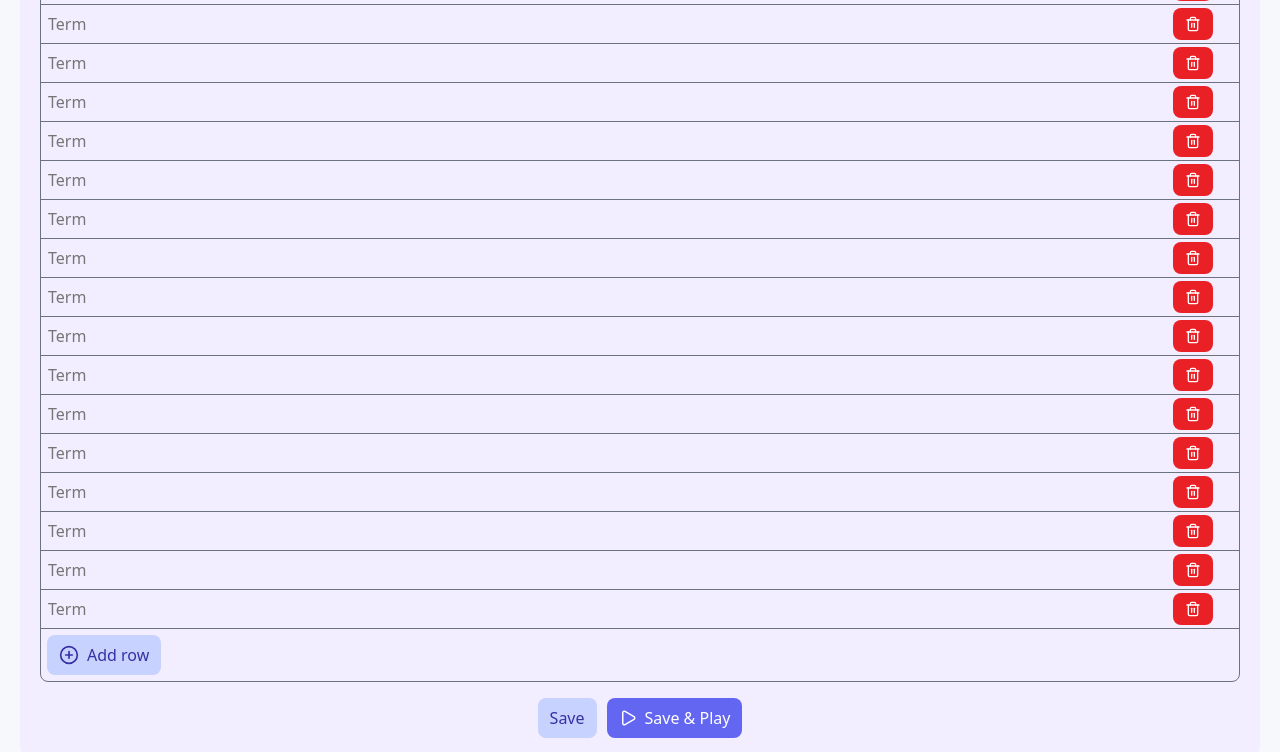
Test case: CardEditorView – saveBoard validation › shows validationError when title is empty
(page scrolled)
// Don't set title — click save
Click the button "Save".
click(567, 718)  # box left=538, top=698, right=596, bottom=738
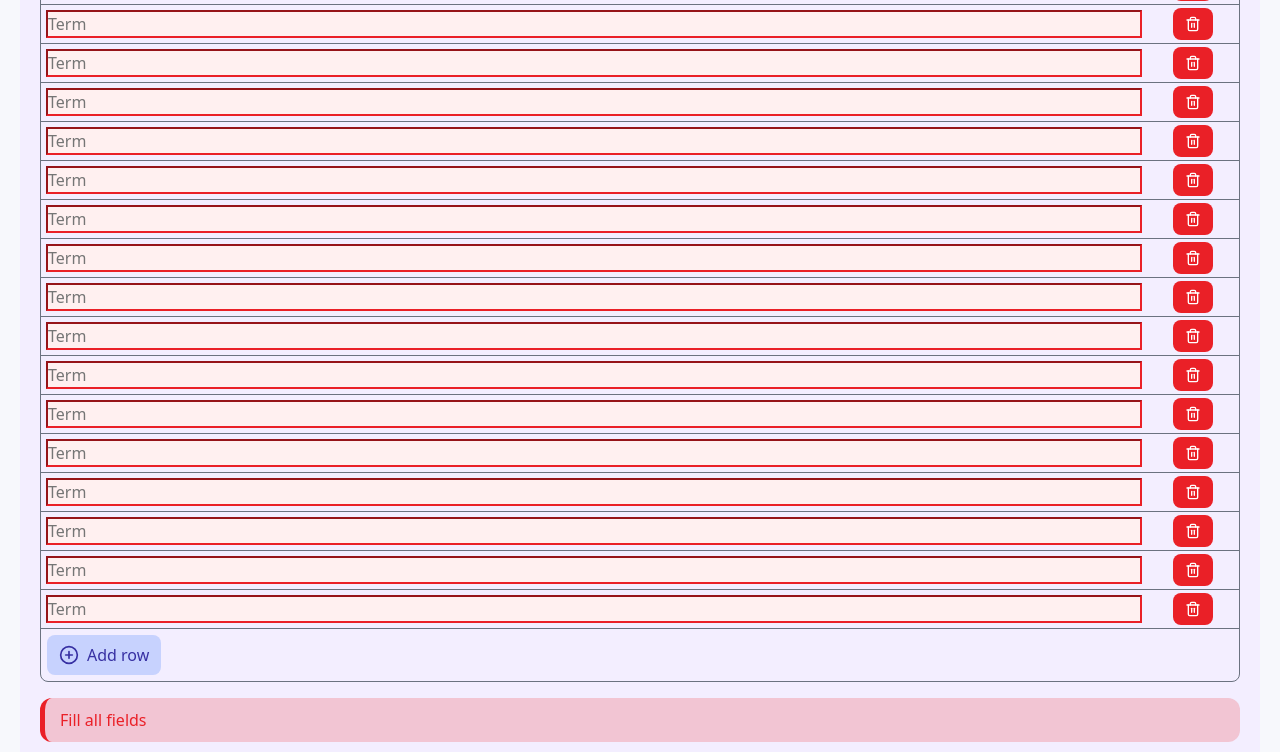
Expected: the text "Fill all fields" is shown, left=40, top=698, right=1240, bottom=742
